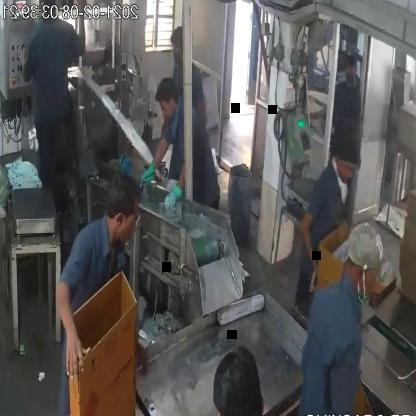no_glove: (45, 262, 97, 388), (295, 192, 326, 300)
